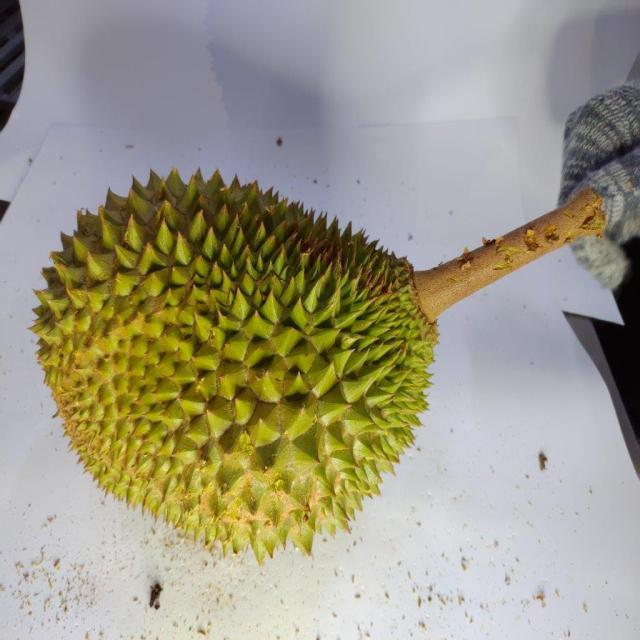immature: (28, 160, 438, 564)
